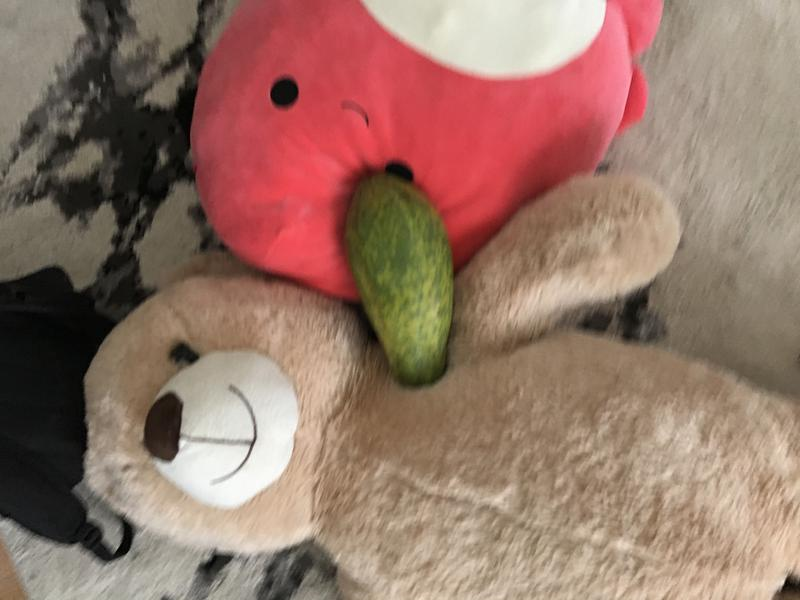papaya: (339, 168, 467, 395)
